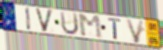I: (25, 6, 32, 32)
M: (77, 13, 104, 40)
T: (107, 17, 123, 41)
U: (59, 11, 80, 37)
V: (125, 18, 146, 45), (34, 7, 54, 34)
